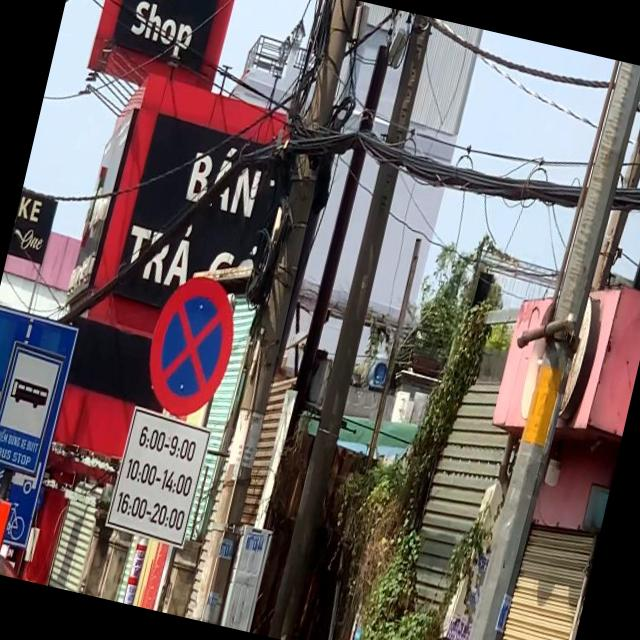I-434a: (0, 336, 65, 477)
P-130: (137, 266, 244, 426)
